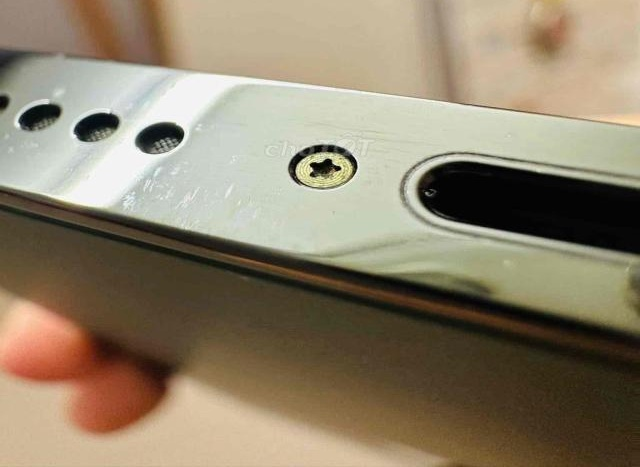scratch: (12, 55, 371, 272)
